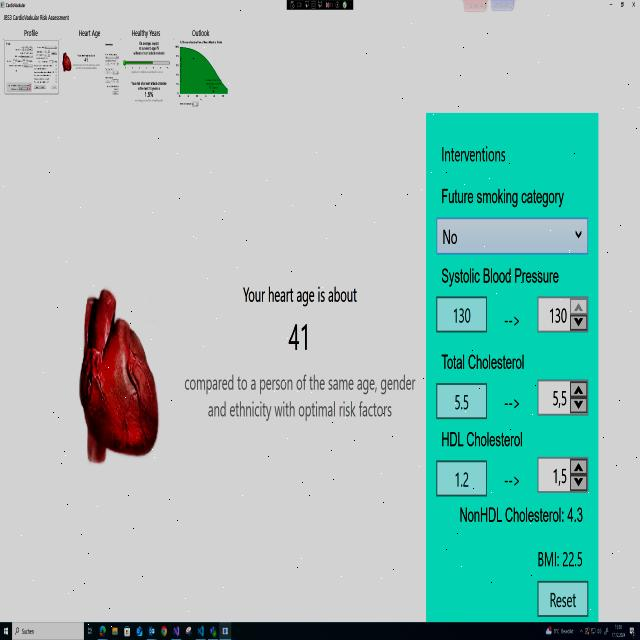button: (533, 578, 591, 622), (435, 294, 491, 336), (434, 457, 489, 499), (434, 380, 488, 422), (602, 0, 617, 13), (627, 0, 640, 14), (617, 0, 626, 14)
dropdownMenu: (434, 215, 594, 257)
input: (12, 621, 83, 640)
label: (434, 182, 569, 212), (438, 260, 564, 290), (456, 502, 586, 530), (438, 342, 533, 375), (438, 134, 510, 172), (438, 427, 534, 453), (529, 545, 589, 575), (3, 12, 72, 24), (128, 20, 163, 39), (498, 389, 524, 414), (499, 466, 522, 491), (498, 309, 525, 330), (186, 20, 214, 39), (77, 22, 104, 38), (19, 24, 43, 37)
upDown: (536, 294, 592, 344), (534, 376, 592, 422), (537, 454, 591, 496)
